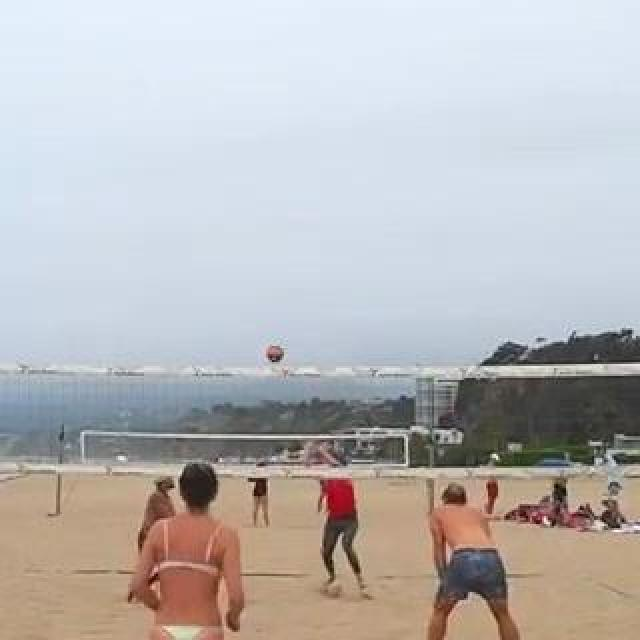volleyball: (266, 344, 284, 364)
